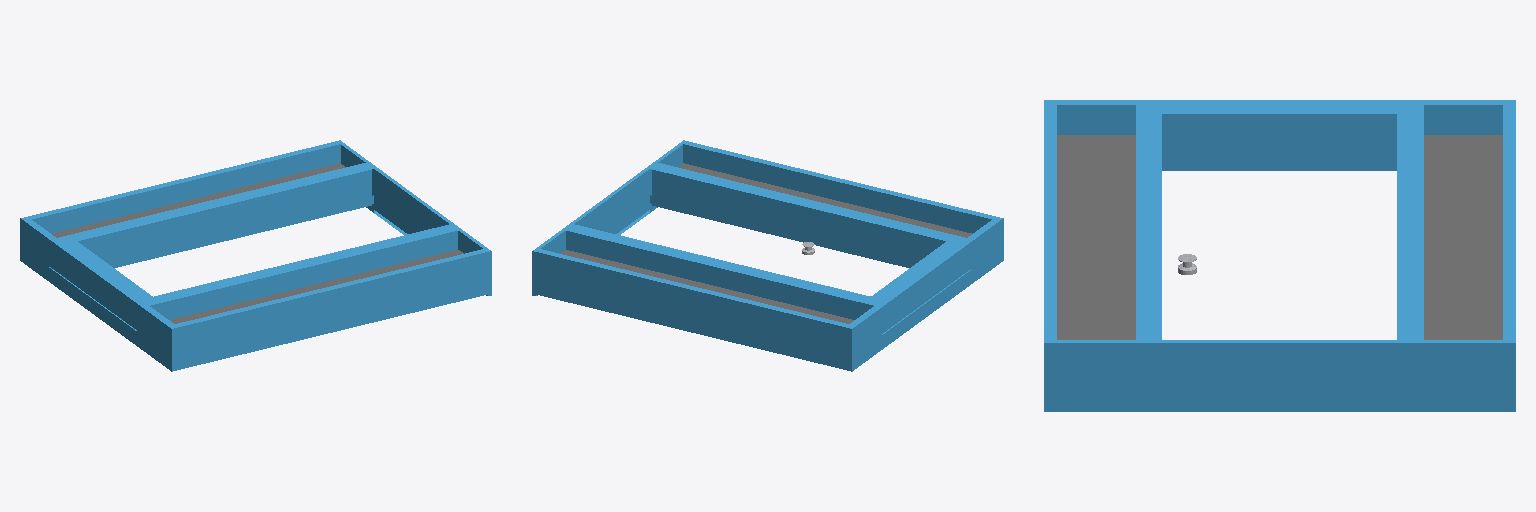
robot.urdf — right-push-door:
<robot name="right-push-door">
	<link name="base" />
	<link name="link_0">
		<visual name="out-frame">
			<origin xyz="0 0 0" />
			<geometry>
				<mesh filename="texture_dae/frame.dae" scale="0.8023904493137358 0.8023904493137358 0.8023904493137358" />
			</geometry>
		</visual>
		<collision>
			<origin xyz="0 0 0" />
			<geometry>
				<mesh filename="texture_dae/frame.dae" scale="0.8023904493137358 0.8023904493137358 0.8023904493137358" />
			</geometry>
		</collision>
	</link>
	<joint name="joint_0" type="fixed">
		<origin rpy="1.570796326794897 0 -1.570796326794897" xyz="0 0 0" />
		<child link="link_0" />
		<parent link="base" />
	</joint>
	<link name="link_1">
		<visual name="surf-board">
			<origin xyz="0.37226065927907914 -0.8182492597492138 0" />
			<geometry>
				<mesh filename="texture_dae/board.dae" scale="0.8023904493137358 0.8023904493137358 0.8023904493137358" />
			</geometry>
		</visual>
		<collision>
			<origin xyz="0.37226065927907914 -0.8182492597492138 0" />
			<geometry>
				<mesh filename="texture_dae/board.dae" scale="0.8023904493137358 0.8023904493137358 0.8023904493137358" />
			</geometry>
		</collision>
	</link>
	<joint name="joint_1" type="revolute">
		<origin xyz="-0.37226065927907914 0.8182492597492138 0" />
		<axis xyz="0 -1 0" />
		<child link="link_1" />
		<parent link="link_0" />
		<limit lower="-1.5079644737231006" upper="-0.0" />
	</joint>
	<link name="link_2">
		<visual name="handle">
			<origin xyz="0 0 0" />
			<geometry>
				<mesh filename="texture_dae/9962029.dae" scale="1.222368994223632 1.222368994223632 1.222368994223632" />
			</geometry>
		</visual>
		<collision>
			<origin xyz="0 0 0" />
			<geometry>
				<mesh filename="texture_dae/9962029.dae" scale="1.222368994223632 1.222368994223632 1.222368994223632" />
			</geometry>
		</collision>
	</link>
	<joint name="joint_2" type="revolute">
		<origin xyz="0.6714978177312606 -0.9056112678517161 0.07096783359400255" />
		<child link="link_2" />
		<parent link="link_1" />
		<axis xyz="0 0 1" />
		<limit lower="0" upper="0" />
	</joint>
</robot>

--- Render facts (derived) ---
The picture shows the robot from 3 angles, left to right: view 1: azimuth 30°, elevation 25°; view 2: azimuth 150°, elevation 25°; view 3: azimuth 270°, elevation 25°; orthographic projection.
Robot: right-push-door — 4 links, 3 joints (2 revolute, 1 fixed); root link base; default pose: all joints at 0.
Links seen in each view (by area): view 1: link_0; view 2: link_0; view 3: link_0.
Boxes of the visible links, x1,y1,x2,y2 form: link_0: [20, 140, 491, 371]; link_0: [532, 140, 1003, 371]; link_0: [1044, 100, 1515, 411].
Size in the robot's own frame: 1.84 by 1.51 by 0.2446 metres.
2 mesh visuals loaded from 3 distinct referenced files (2 Collada DAE); not drawn: 1 (reference not matched to a file when rendering).
